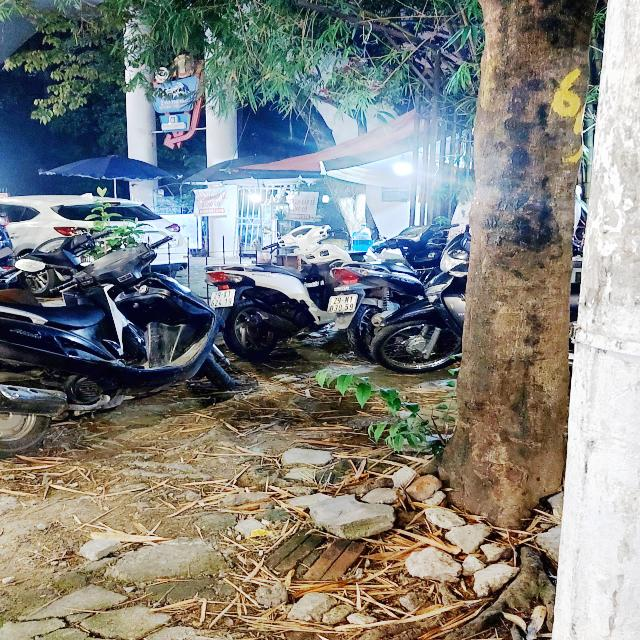license_plate: (326, 294, 362, 315), (210, 289, 237, 310)
